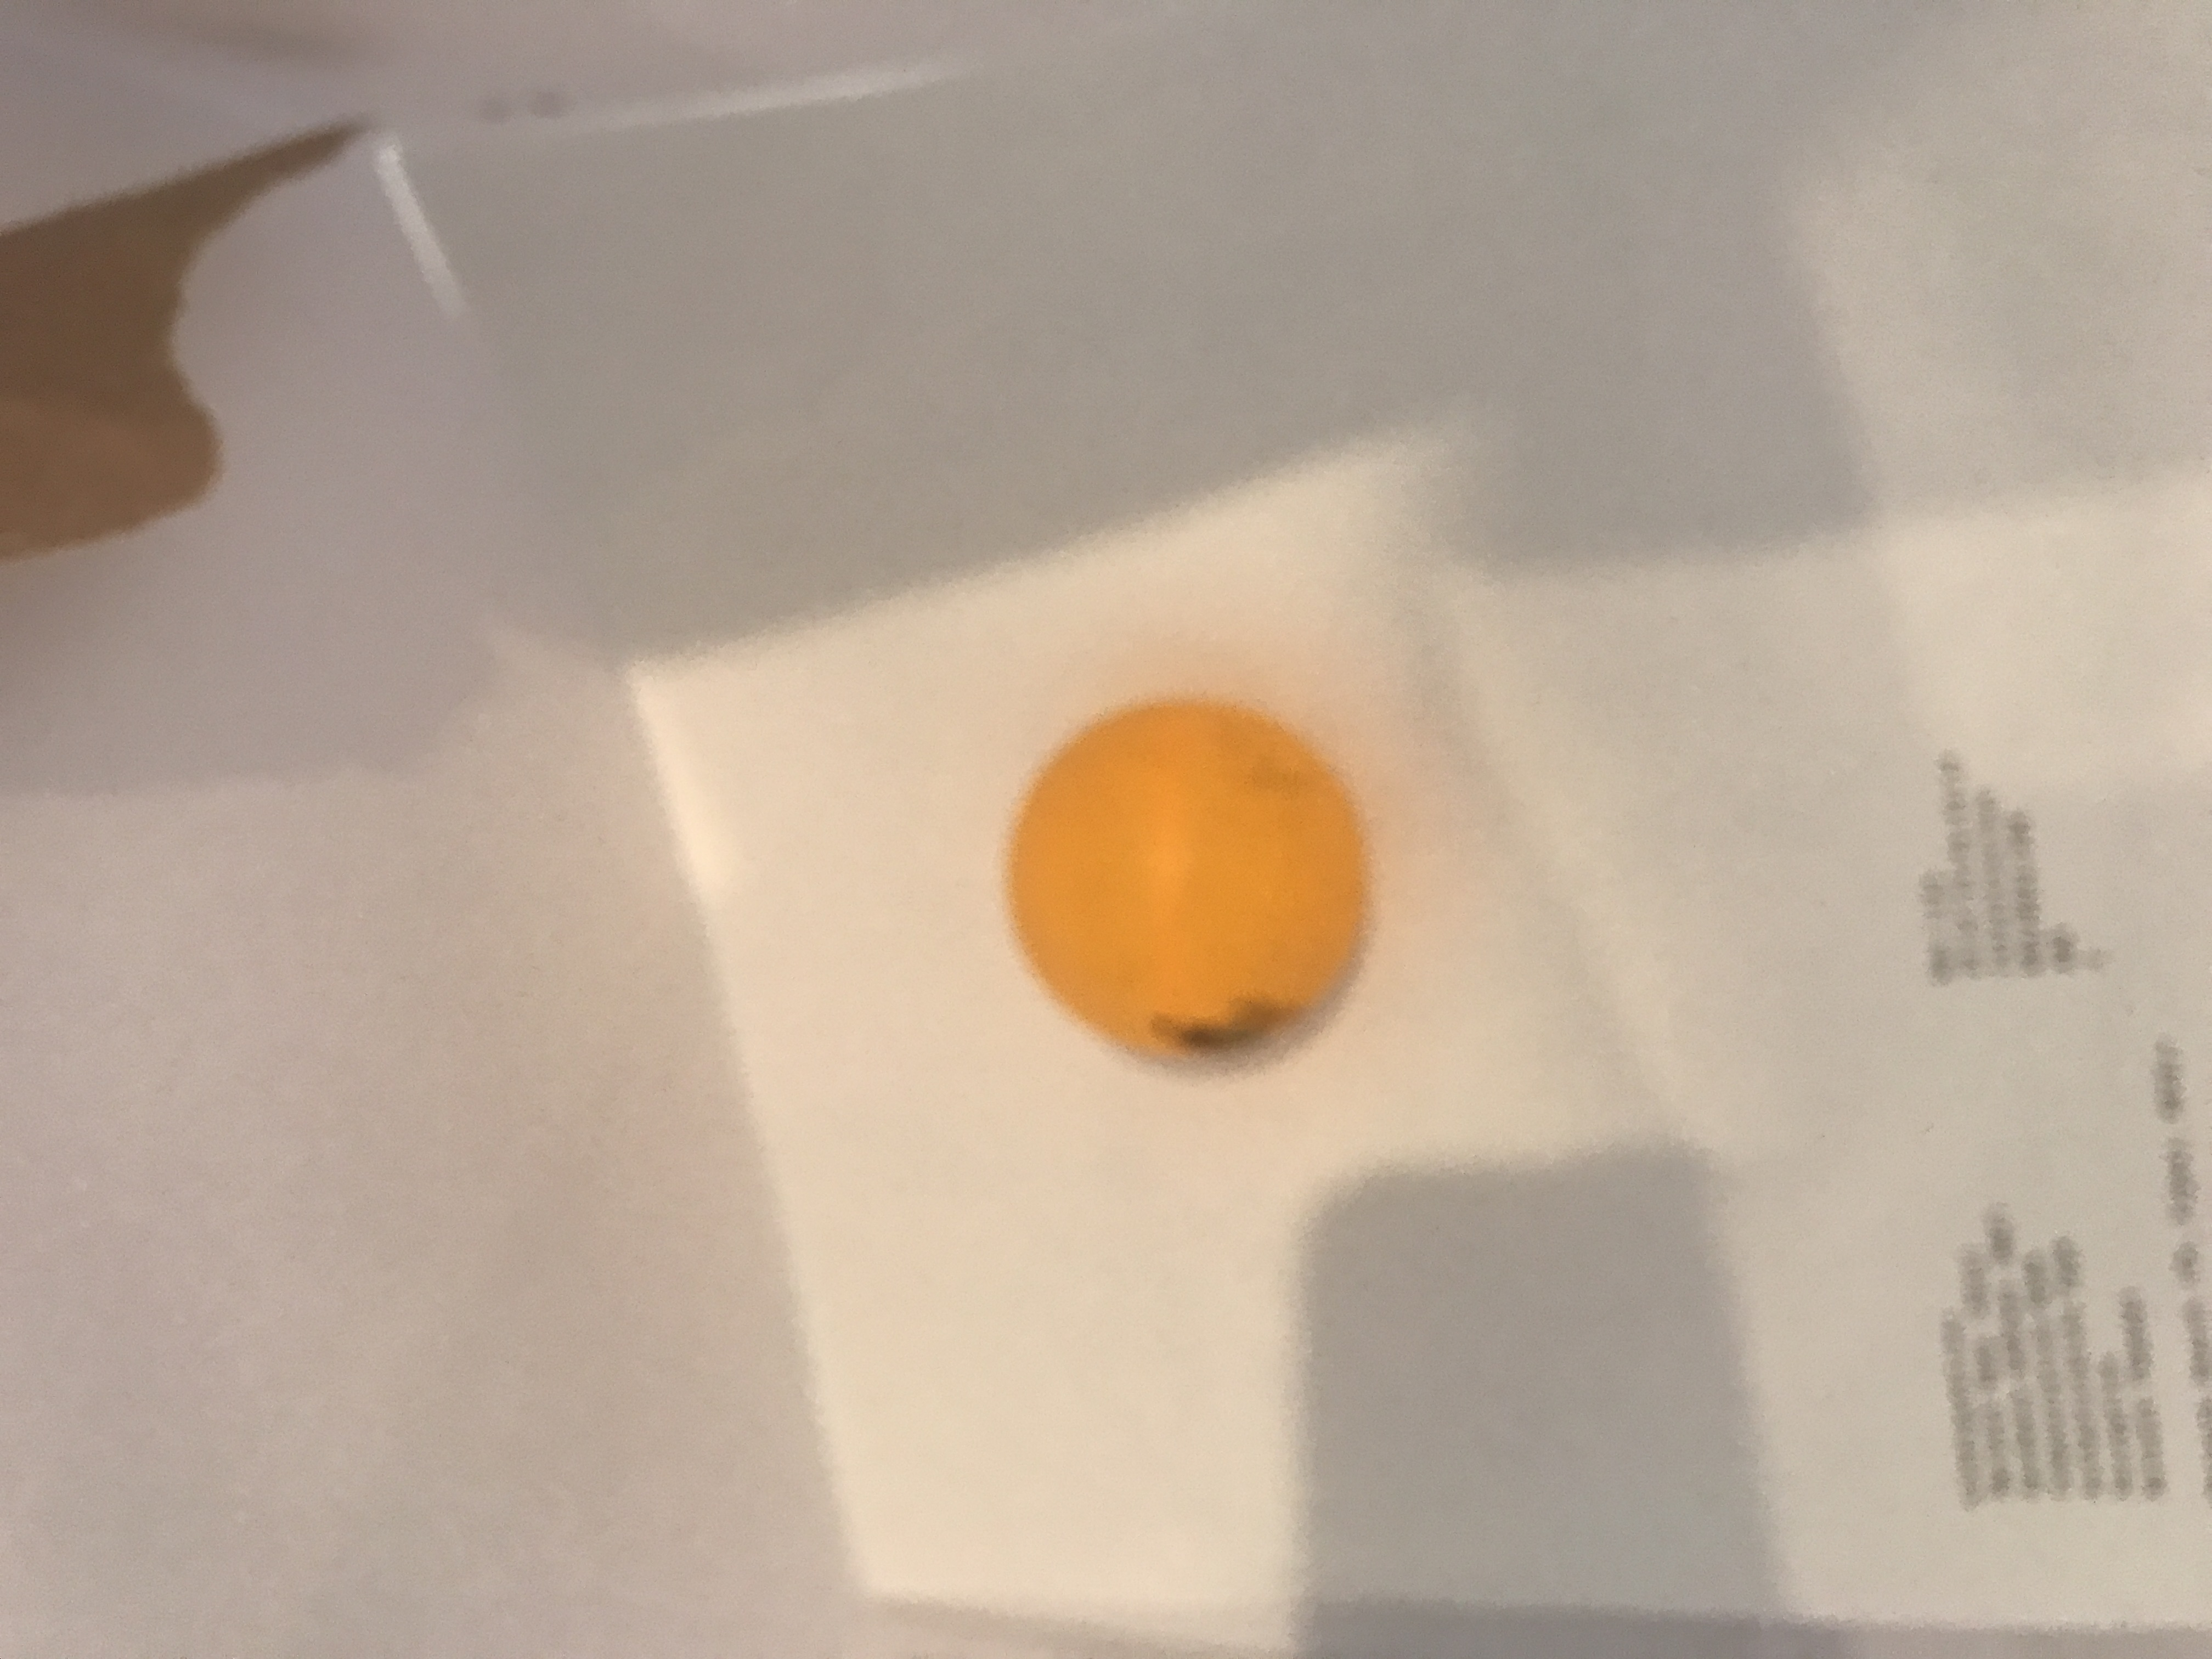pp: (991, 687, 1390, 1093)
